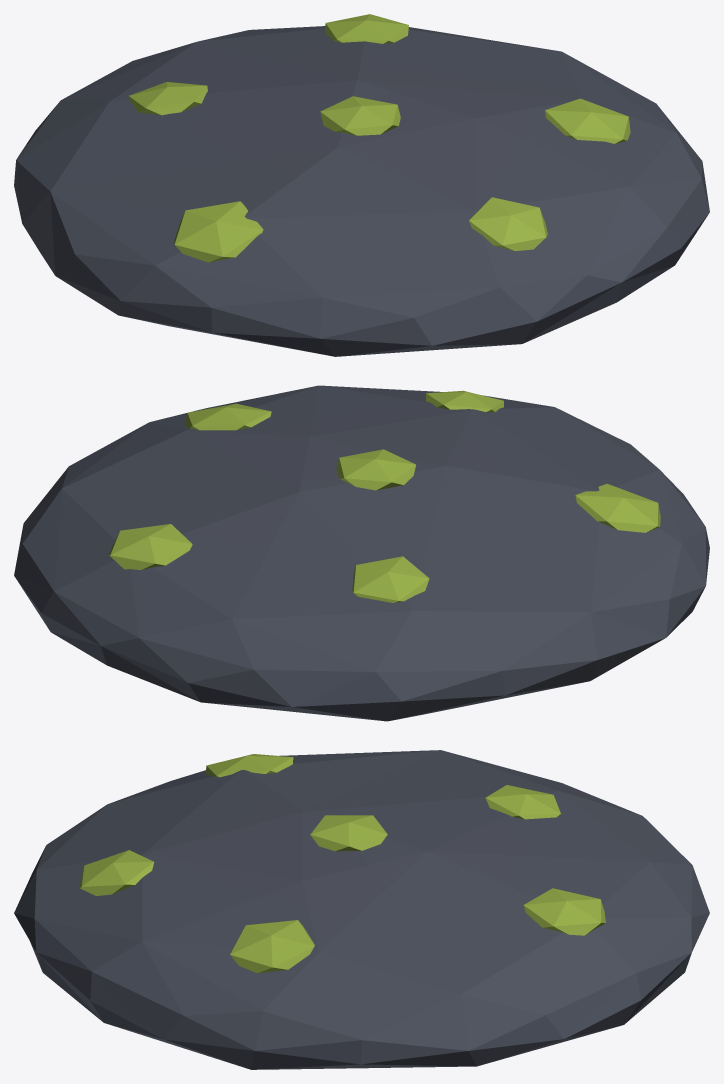
File: Food_03.fbx
3 views of the same model, one above another, from view 1: azimuth 30°, elevation 25°; view 2: azimuth 150°, elevation 25°; view 3: azimuth 270°, elevation 25° (orthographic). The views are drawn at different scales.
Visible parts, largest first — view 1: Food_03; view 2: Food_03; view 3: Food_03.
Boxes of the visible parts, <box> form: Food_03: <box>14,14,709,356</box>; Food_03: <box>14,385,709,721</box>; Food_03: <box>14,750,709,1069</box>.
Size of the model in its own units: 0.1241 by 0.0254 by 0.1264.
